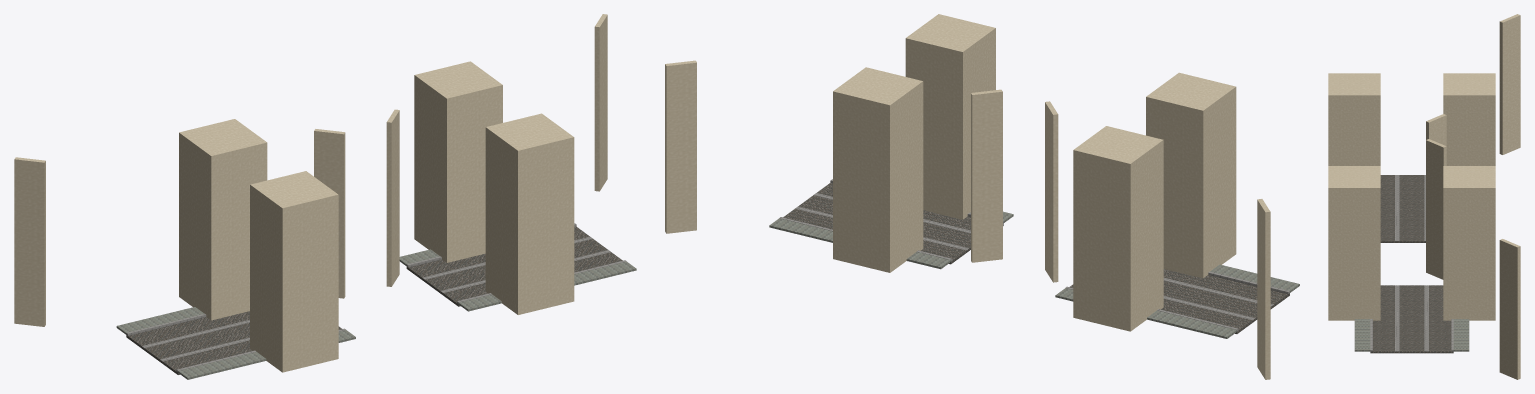
The model's file is turin_cross_street.glb.
3 renders of one model, left to right at view 1: azimuth 30°, elevation 25°; view 2: azimuth 150°, elevation 25°; view 3: azimuth 270°, elevation 25°, orthographic. The views are drawn at different scales.
Parts seen in each view (by area): view 1: CornerPalazzi, RiverCobblestones, CrossSidewalks, WheelRunners, CrossCurbs; view 2: CornerPalazzi, RiverCobblestones, CrossSidewalks, WheelRunners, CrossCurbs; view 3: CornerPalazzi, RiverCobblestones, WheelRunners, CrossSidewalks, CrossCurbs.
Boxes of the visible parts, <box> form: CornerPalazzi: <box>14,14,607,372</box>; RiverCobblestones: <box>126,226,622,374</box>; CrossSidewalks: <box>116,249,636,379</box>; WheelRunners: <box>142,236,610,361</box>; CrossCurbs: <box>126,223,626,372</box>; CornerPalazzi: <box>665,14,1270,379</box>; RiverCobblestones: <box>783,182,1289,333</box>; CrossSidewalks: <box>769,179,1299,338</box>; WheelRunners: <box>795,193,1273,320</box>; CrossCurbs: <box>779,179,1289,331</box>; CornerPalazzi: <box>1328,14,1520,379</box>; RiverCobblestones: <box>1370,175,1453,353</box>; WheelRunners: <box>1395,175,1428,351</box>; CrossSidewalks: <box>1354,319,1469,351</box>; CrossCurbs: <box>1370,319,1453,351</box>.
Bounding box in the file's own units: 52.89 × 14.2 × 18.38.
6 materials, 4 textured.
